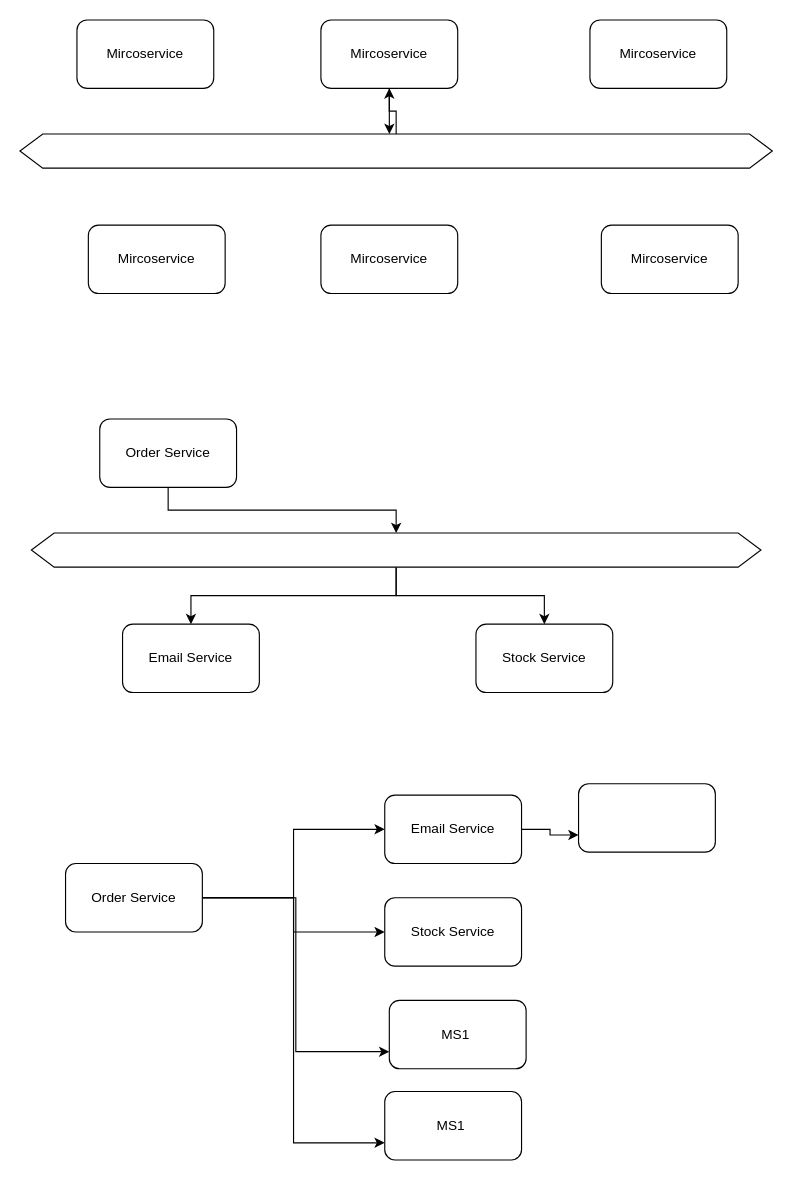
Some shapes in this 792 by 1180 pixel diagram are drawn without their labels. Here are the shapes that lost their labels. From the top down, the box of each, then its label:
(19, 133, 772, 168): TOPIC
(30, 532, 761, 567): order-topic
(577, 783, 715, 852): Email Gateway
